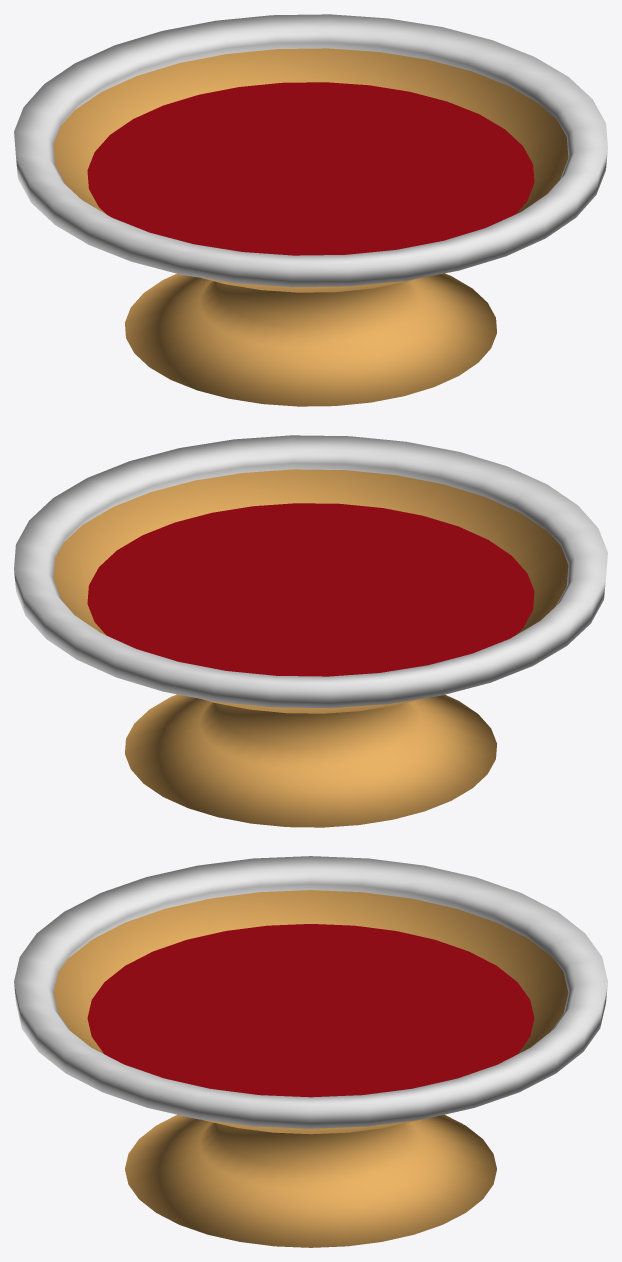
The model's file is SavePoint_Bowl.fbx.
3 views of the same model, one above another, from view 1: azimuth 30°, elevation 25°; view 2: azimuth 150°, elevation 25°; view 3: azimuth 270°, elevation 25° (orthographic).
Parts seen in each view (by area): view 1: Cylinder.005, Cylinder.009; view 2: Cylinder.005, Cylinder.009; view 3: Cylinder.005, Cylinder.009.
Part boxes in pixels (box(x1,y1,x2,y2)): Cylinder.005: box(14, 14, 607, 406); Cylinder.009: box(87, 82, 534, 255); Cylinder.005: box(14, 435, 607, 827); Cylinder.009: box(87, 503, 534, 676); Cylinder.005: box(14, 856, 607, 1247); Cylinder.009: box(87, 924, 534, 1097).
Bounding box in the file's own units: 964 × 336 × 964.
